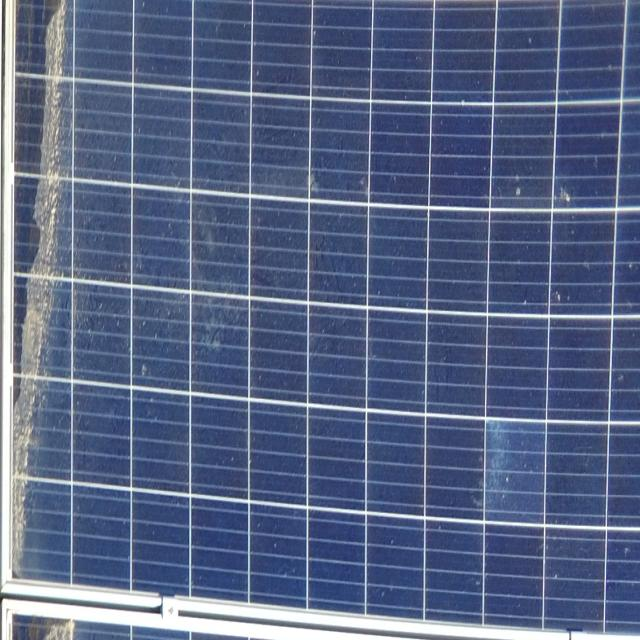Dust: (0, 11, 87, 594)
bird-droppings: (556, 188, 579, 213), (511, 176, 529, 198)
